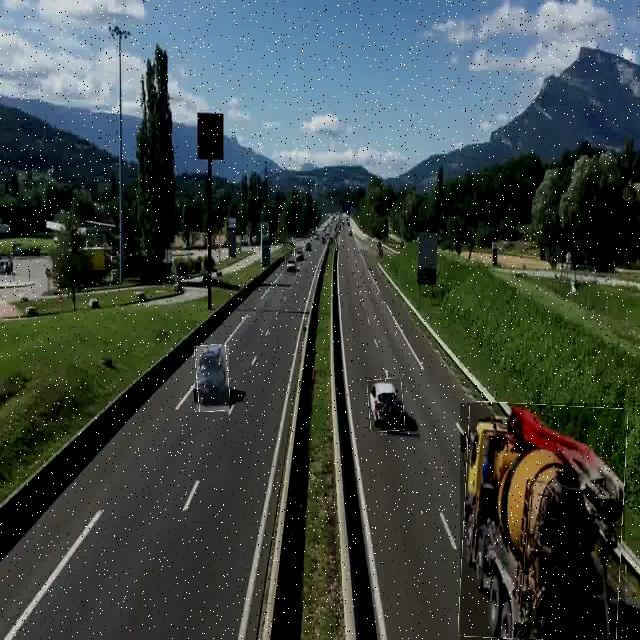Car: (196, 345, 229, 412), (368, 378, 404, 432), (285, 258, 297, 276), (295, 248, 304, 262)
Truck: (460, 403, 625, 640)
